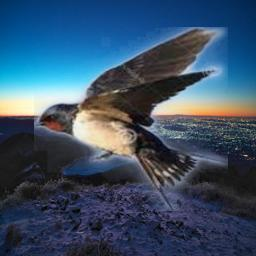Swallow: (34, 27, 228, 211)
